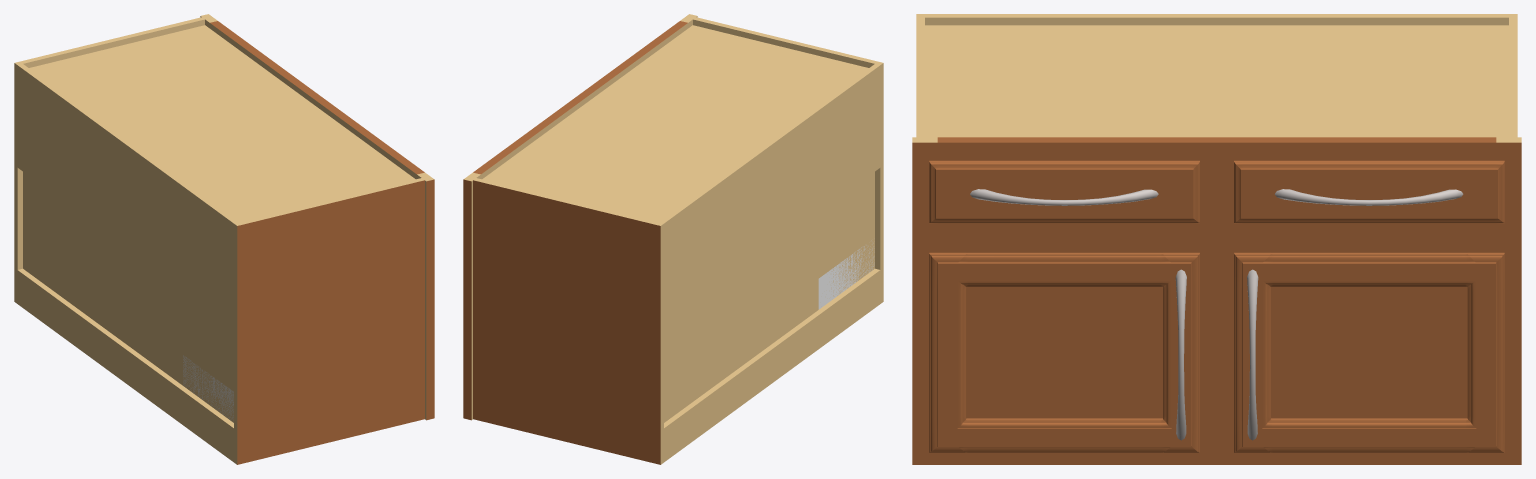
The model's file is kitchen_cabinet_bot.dae.
3 renders of one model, left to right at view 1: azimuth 30°, elevation 25°; view 2: azimuth 150°, elevation 25°; view 3: azimuth 270°, elevation 25°, orthographic. The views are drawn at different scales.
Parts seen in each view (by area): view 1: TOP_4, S_4 (×3), BV_8, HRB_8 (×2), HRB_9, S_3 (×3), HR_9 (×2), ST_8, image_0, ST_9; view 2: TOP_4, S_4 (×3), BV_8, HRB_8 (×2), HRB_9, S_3 (×3), HR_9 (×2), ST_8, image_0, ST_9; view 3: TOP_4, LB_11_CC, RB_11_CC, DF_11_CC (×2), HR_9 (×2), HR_8 (×2), ST_8 (×2), LB_11_BC (×2), RB_11_BC (×2), LB_11_TC (×2), RB_11_TC (×2), HRB_9 (+22 smaller).
Part boxes in pixels (x1,y1,x2,y2): TOP_4: (29,25,415,222); S_4 (×3): (14,131,424,464); BV_8: (23,172,233,422); HRB_8 (×2): (17,134,233,462); HRB_9: (17,64,239,291); S_3 (×3): (14,17,424,294); HR_9 (×2): (210,21,424,179); ST_8: (426,247,434,420); image_0: (183,355,233,422); ST_9: (426,179,434,249); TOP_4: (482,25,868,222); S_4 (×3): (473,131,883,464); BV_8: (664,172,874,422); HRB_8 (×2): (664,134,880,462); HRB_9: (658,64,880,291); S_3 (×3): (473,17,883,294); HR_9 (×2): (473,21,687,179); ST_8: (463,247,471,420); image_0: (818,240,874,309); ST_9: (463,179,471,249); TOP_4: (925,25,1508,137); LB_11_CC: (968,289,1160,414); RB_11_CC: (1273,289,1465,414); DF_11_CC (×2): (939,170,1494,217); HR_9 (×2): (937,137,1496,234); HR_8 (×2): (937,235,1496,464); ST_8 (×2): (912,235,1521,464); LB_11_BC (×2): (968,415,1160,452); RB_11_BC (×2): (1273,415,1465,452); LB_11_TC (×2): (968,252,1160,289); RB_11_TC (×2): (1273,252,1465,289); HRB_9: (925,14,1508,25).
Bounding box in the file's own units: 20.12 × 36 × 21.
